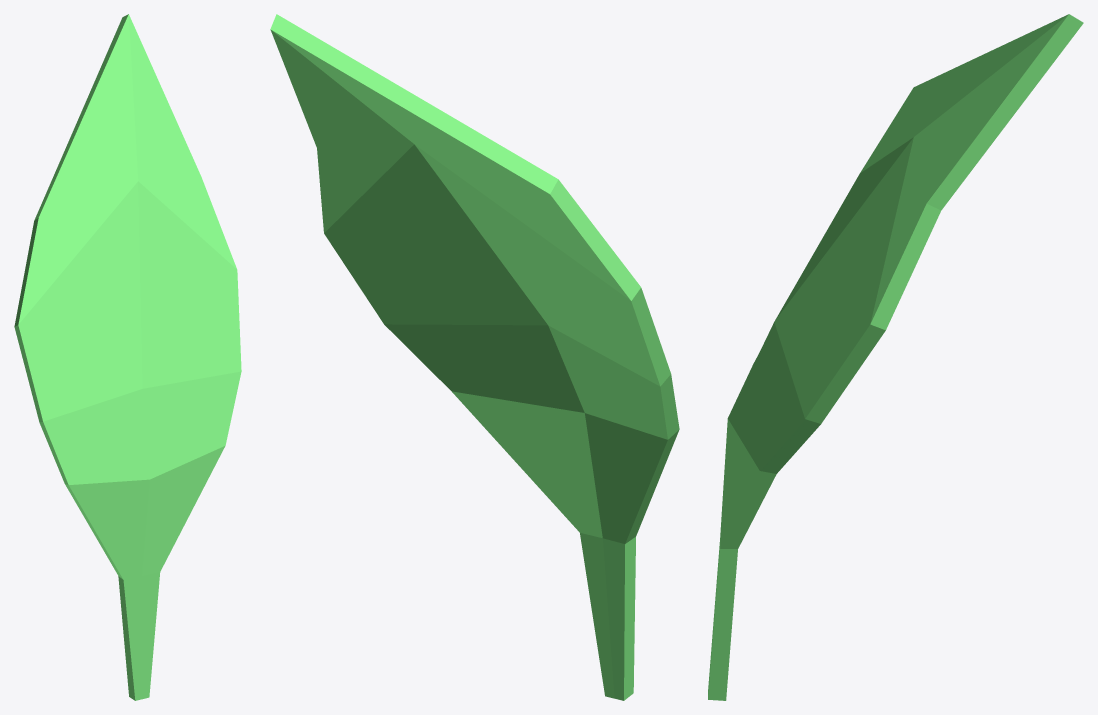
File: wheat_seed_start.glb
3 views of the same model, side by side, from view 1: azimuth 30°, elevation 25°; view 2: azimuth 150°, elevation 25°; view 3: azimuth 270°, elevation 25° (orthographic). The views are drawn at different scales.
Visible parts, largest first — view 1: start; view 2: start; view 3: start.
Boxes of the visible parts, left/top/right/bottom form: start: left=14, top=14, right=241, bottom=700; start: left=270, top=14, right=679, bottom=700; start: left=708, top=14, right=1083, bottom=700.
Size of the model in its own units: 0.5021 by 1.2 by 0.5389.
